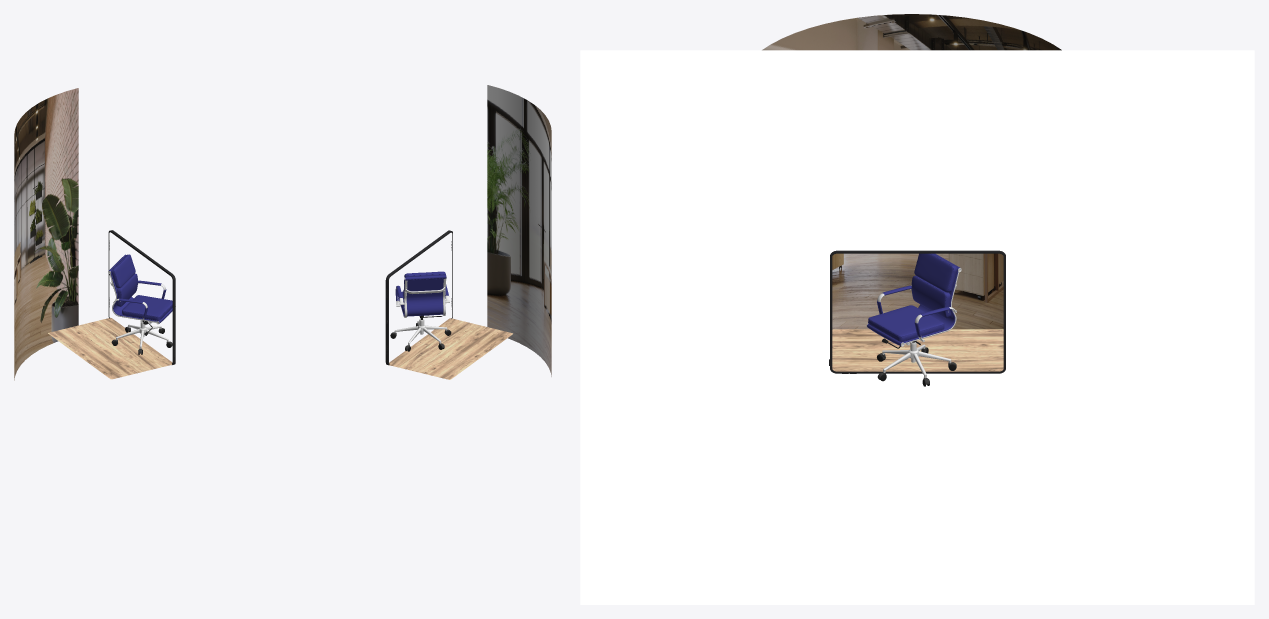
The model's file is Immersive_AR_desktop.glb.
3 views of the same model, side by side, from view 1: azimuth 30°, elevation 25°; view 2: azimuth 150°, elevation 25°; view 3: azimuth 270°, elevation 25° (orthographic). The views are drawn at different scales.
Visible parts, largest first — view 1: pCylinder1, Plane, Merged Objects, main.body, Group001; view 2: pCylinder1, Plane, Merged Objects, main.body, Group001, Buffer Object; view 3: pPlane1, pCylinder1, Plane, Merged Objects, main.body.
Boxes of the visible parts, bbox=[...] form: pCylinder1: bbox=[14, 88, 78, 380]; Plane: bbox=[48, 317, 172, 379]; Merged Objects: bbox=[109, 254, 172, 323]; main.body: bbox=[108, 230, 175, 364]; Group001: bbox=[111, 320, 172, 353]; pCylinder1: bbox=[487, 85, 551, 376]; Plane: bbox=[389, 318, 512, 379]; Merged Objects: bbox=[395, 271, 448, 316]; main.body: bbox=[385, 230, 452, 365]; Group001: bbox=[390, 315, 450, 349]; Buffer Object: bbox=[396, 275, 449, 320]; pPlane1: bbox=[580, 50, 1254, 604]; pCylinder1: bbox=[762, 14, 1061, 329]; Plane: bbox=[832, 329, 1003, 371]; Merged Objects: bbox=[867, 253, 959, 346]; main.body: bbox=[830, 250, 1005, 373].
Size of the model in its own units: 1.91 by 5.31 by 5.86.
Materials: 17 (7 with a texture image).
